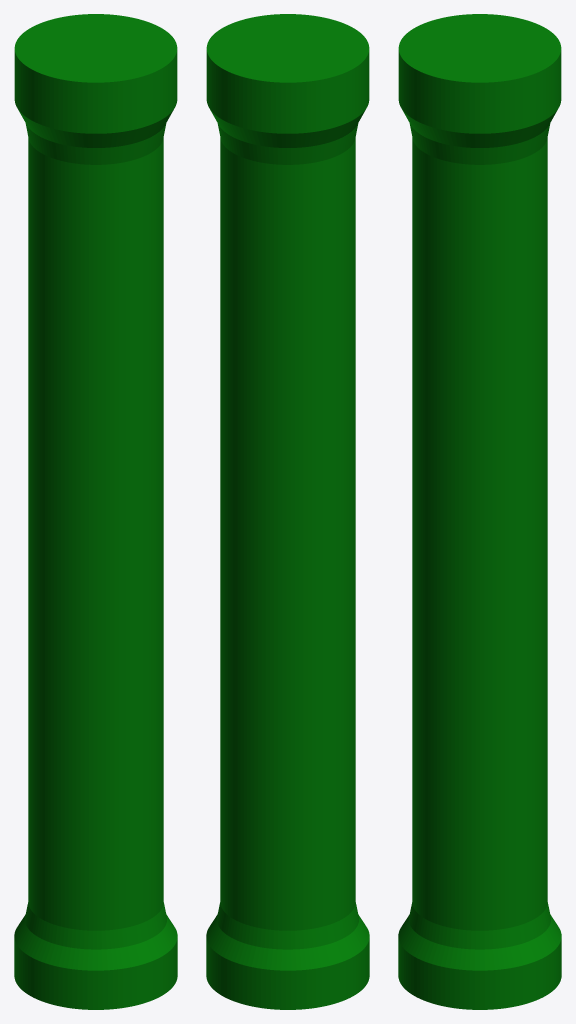
Rendered from pipe.obj.
The picture shows the model from 3 angles, left to right: view 1: azimuth 30°, elevation 25°; view 2: azimuth 150°, elevation 25°; view 3: azimuth 270°, elevation 25°; orthographic projection.
Parts seen in each view (by area): view 1: Cylinder; view 2: Cylinder; view 3: Cylinder.
Part boxes in pixels (bbox=[...]): Cylinder: bbox=[14, 14, 177, 1009]; Cylinder: bbox=[206, 14, 369, 1009]; Cylinder: bbox=[398, 14, 561, 1009].
Size of the model in its own units: 10.62 by 66.51 by 10.62.
1 material, 1 textured.
